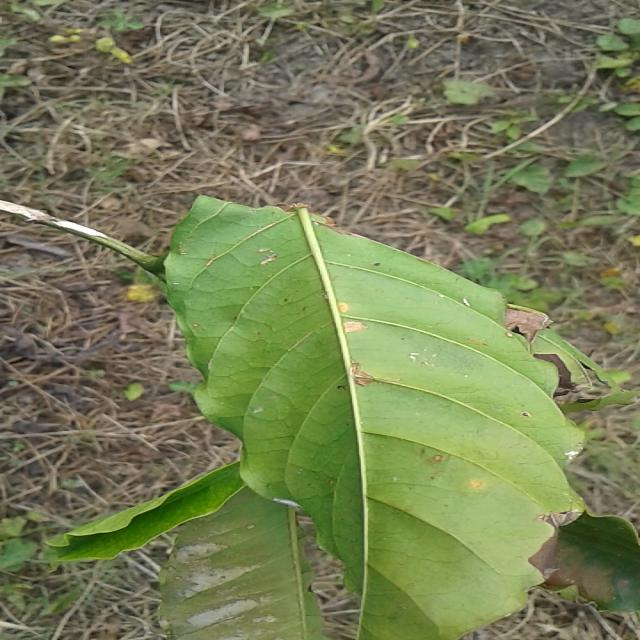Enfermedad-Roya: (164, 196, 587, 640)
